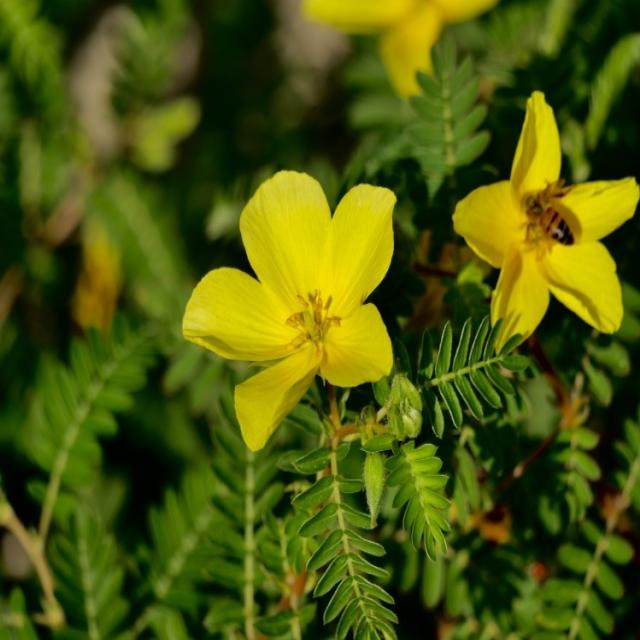Gokharu: (147, 220, 640, 640), (447, 23, 640, 436), (186, 141, 422, 456), (17, 323, 218, 607)
